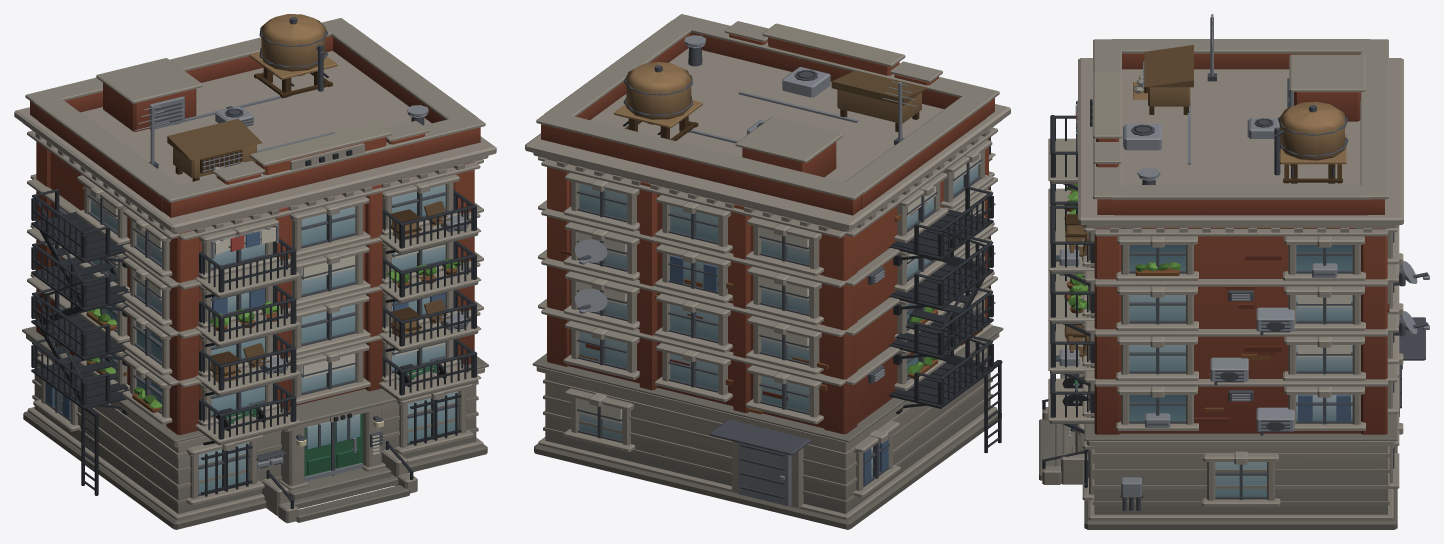
File: hf-apartment-block.glb
3 renders of one model, left to right at view 1: azimuth 30°, elevation 25°; view 2: azimuth 150°, elevation 25°; view 3: azimuth 270°, elevation 25°, orthographic. The views are drawn at different scales.
Parts seen in each view (by area): view 1: apartment_block_01; view 2: apartment_block_01; view 3: apartment_block_01.
Boxes of the visible parts, <box> form: apartment_block_01: <box>14,14,496,529</box>; apartment_block_01: <box>525,14,1010,529</box>; apartment_block_01: <box>1039,14,1429,529</box>.
Bounding box in the file's own units: 16.02 × 15.42 × 14.26.
